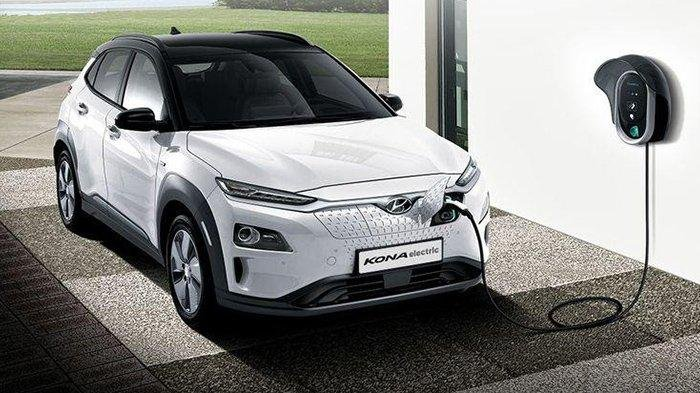mobil: (48, 23, 492, 334)
